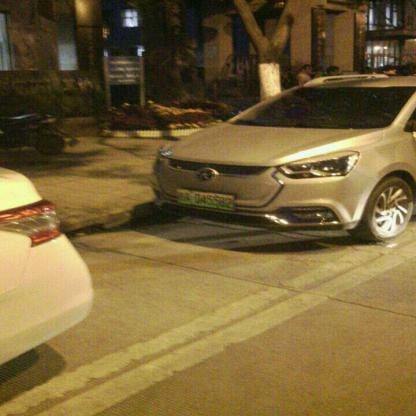lp: (175, 188, 236, 210)
